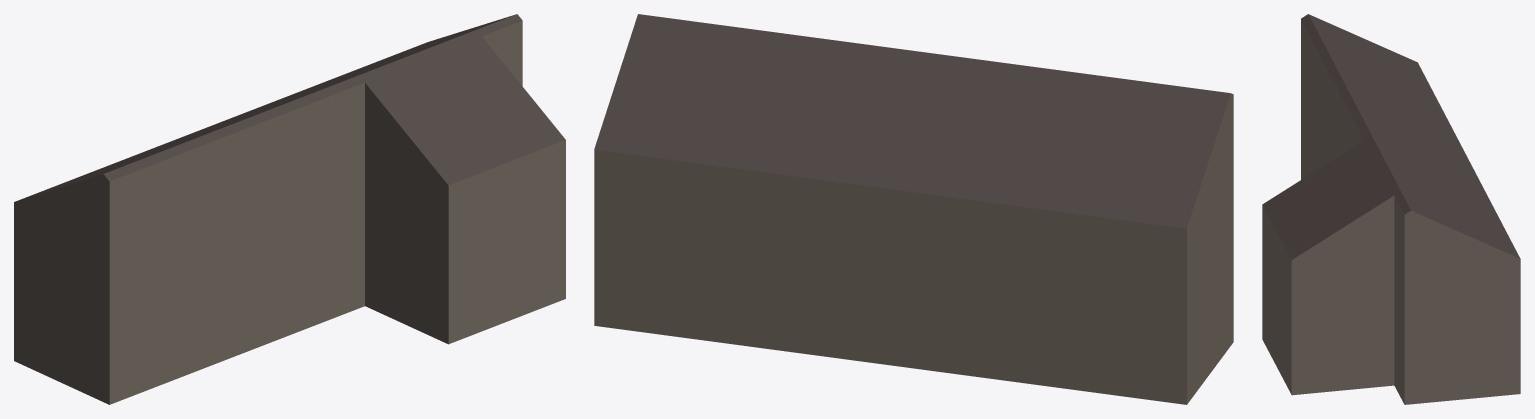
3 renders of one model, left to right at view 1: azimuth 30°, elevation 25°; view 2: azimuth 150°, elevation 25°; view 3: azimuth 270°, elevation 25°, orthographic. The views are drawn at different scales.
Visible parts, largest first — view 1: HP-w1201321561; view 2: HP-w1201321561; view 3: HP-w1201321561.
Boxes of the visible parts, x1,y1,x2,y2 form: HP-w1201321561: (14, 14, 565, 404); HP-w1201321561: (594, 14, 1233, 404); HP-w1201321561: (1262, 14, 1520, 404).
Bounding box in the file's own units: 29.66 × 12.91 × 15.6.
